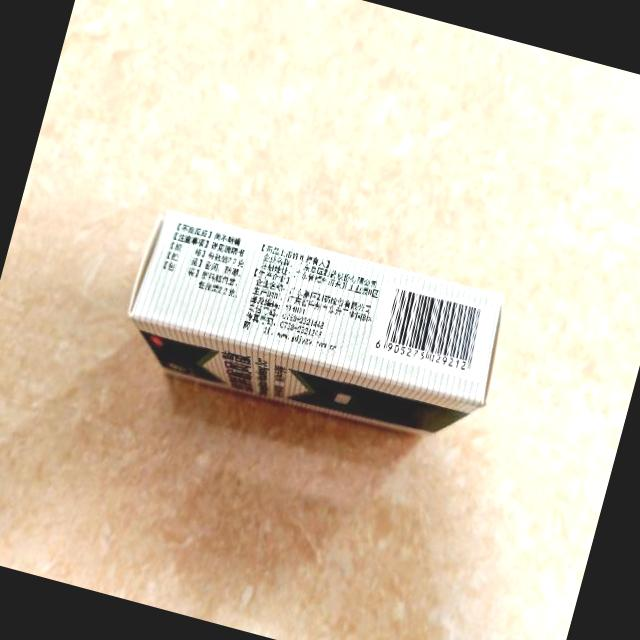box: (112, 200, 514, 458)
